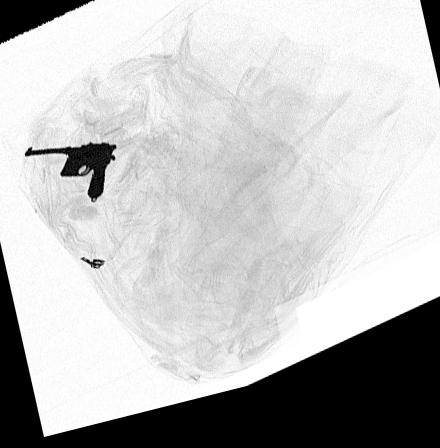Gun: (20, 148, 115, 205)
